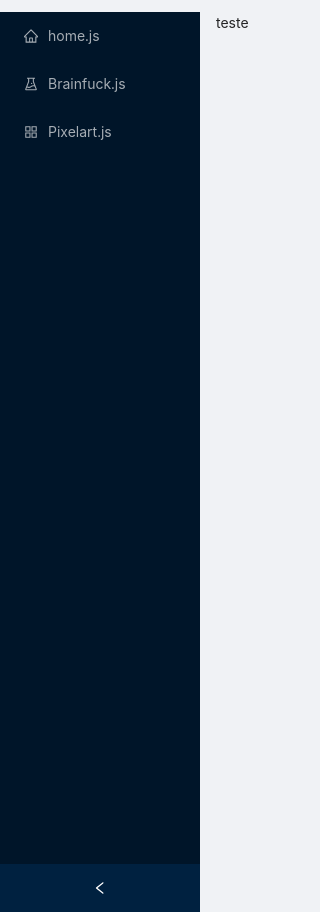
Test: collapses correctly
Step 1. Click the picture named "left" → (100, 888), box [93,881,107,895]
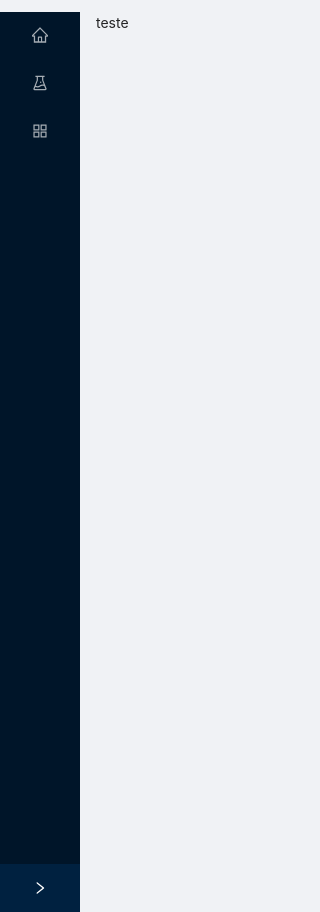
Result: the picture named "right" is shown at [33,881,47,895]
